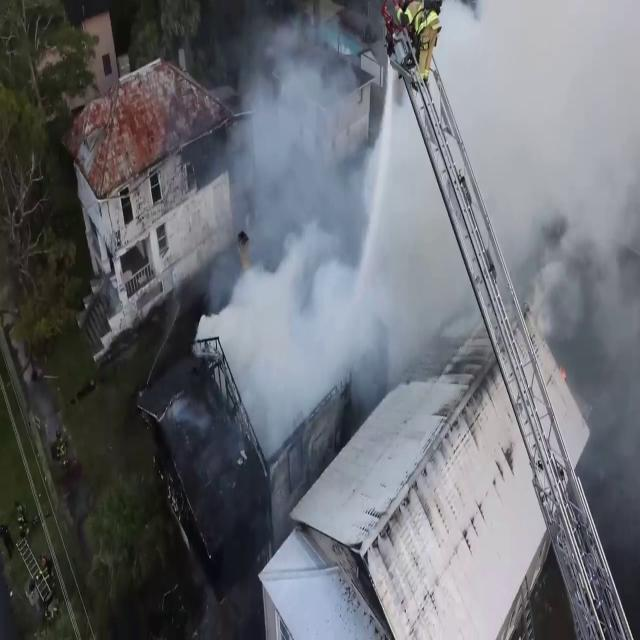Smoke: (230, 252, 354, 396)
